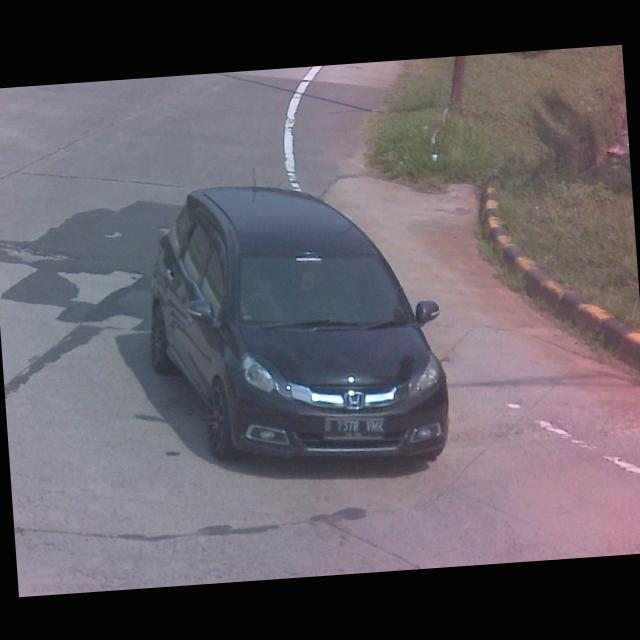plate: (322, 412, 386, 442)
